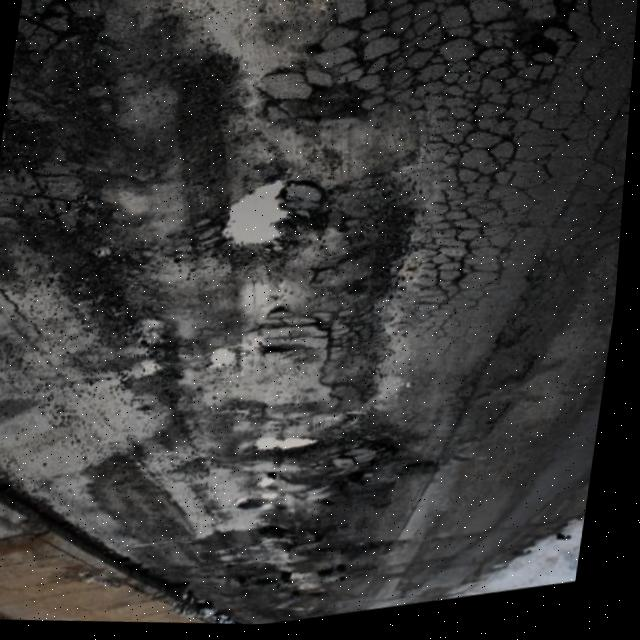Pothole: (69, 0, 365, 129), (156, 109, 355, 280), (474, 0, 619, 110), (231, 542, 363, 623), (342, 408, 437, 518), (227, 409, 355, 488), (256, 488, 365, 565), (223, 461, 317, 524), (173, 321, 264, 384), (427, 217, 485, 309)
